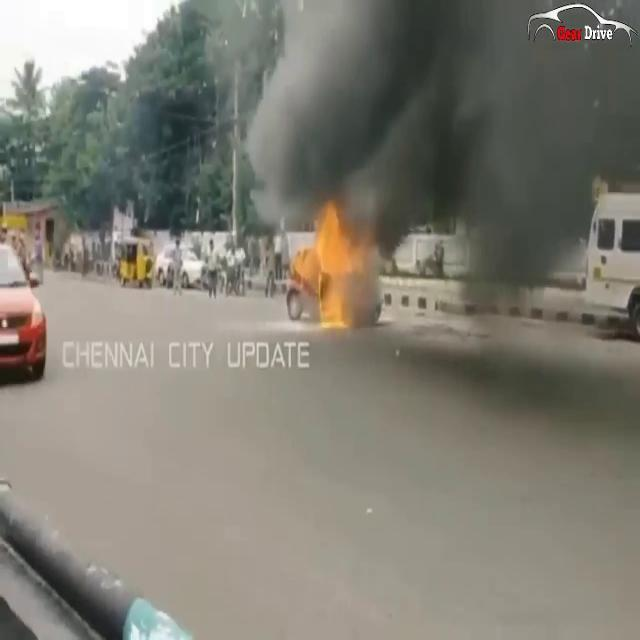Fire: (289, 199, 367, 325)
Smoke: (221, 0, 640, 244)
